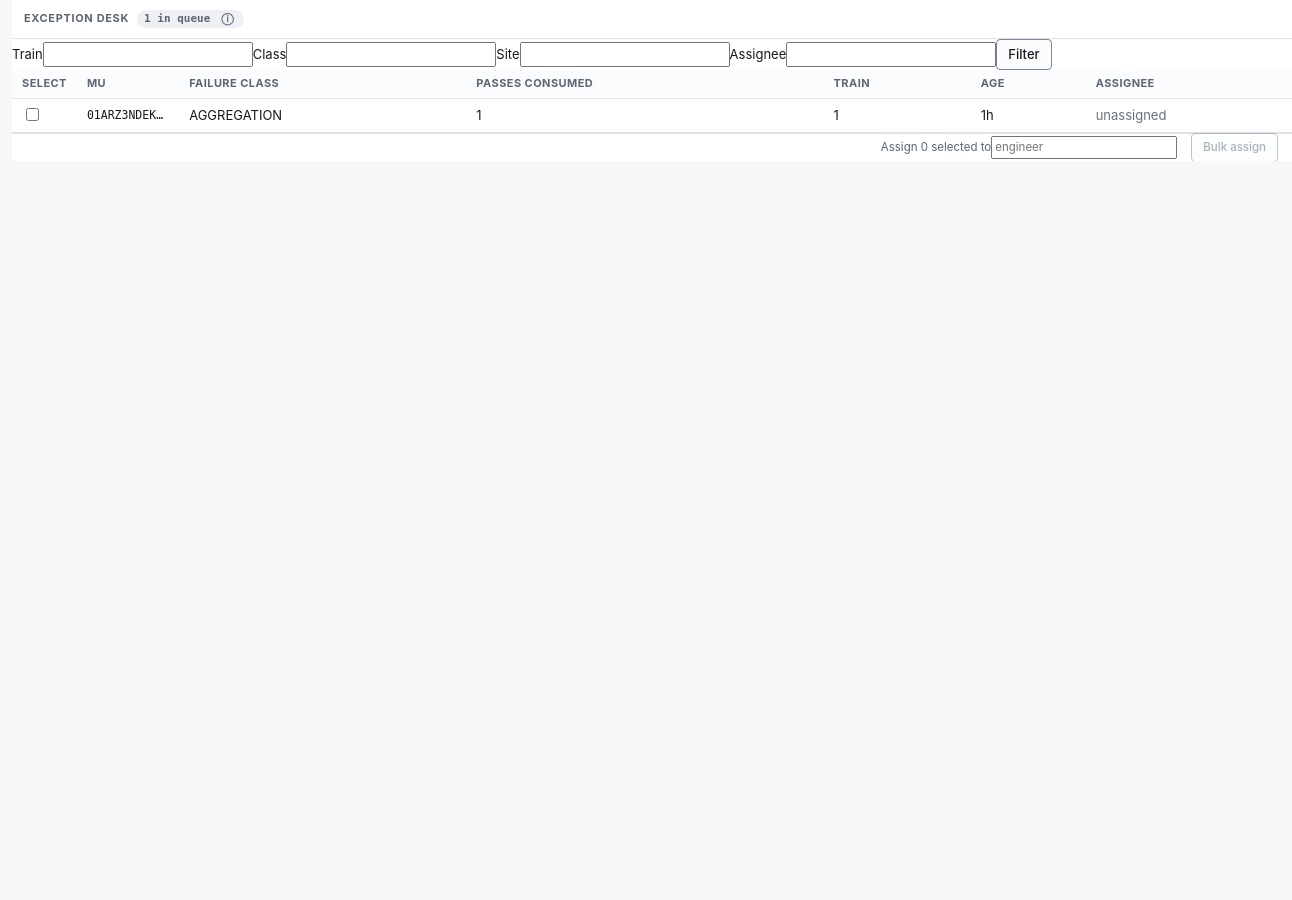
Test case: the case page › disables Record decision until the rationale is at least 20 characters
This screenshot has width=1292, height=900.
Click the text "01ARZ3NDEKTSV4RRFFQ69G5FAV" at (128, 116), box [77,99,179,133]
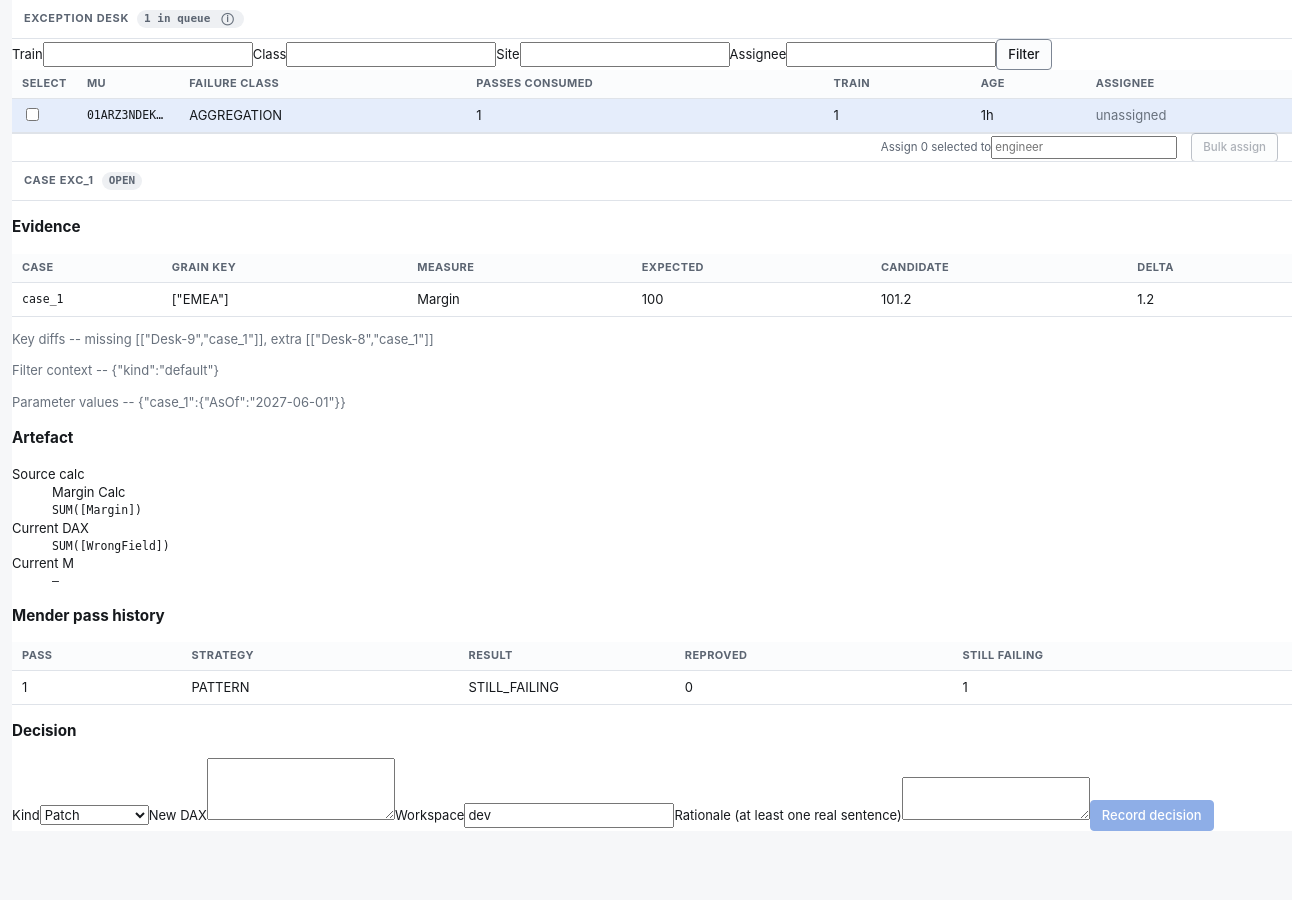
Now the button "Record decision" is disabled, box [1090,800,1214,831]
Type "fixed it" into the text box labelled "Rationale (at least one real sentence)" at (996, 798), box [902,776,1090,820]
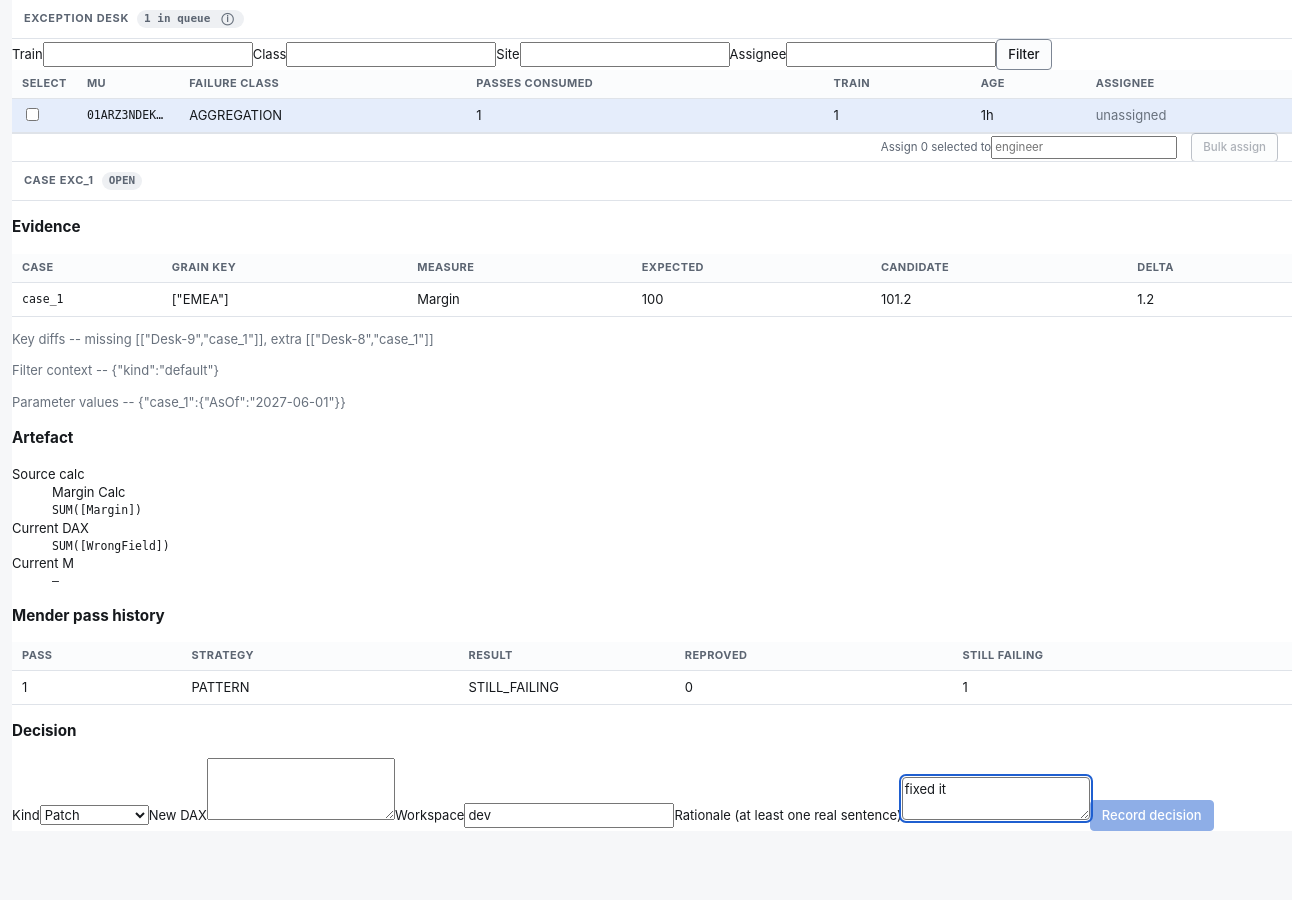
Now the button "Record decision" is disabled, box [1090,800,1214,831]
Replace the text in the text box labelled "Rationale (at least one real sentence)" with "This measure double-counts returns after a schema change." at (996, 798), box [902,776,1090,820]
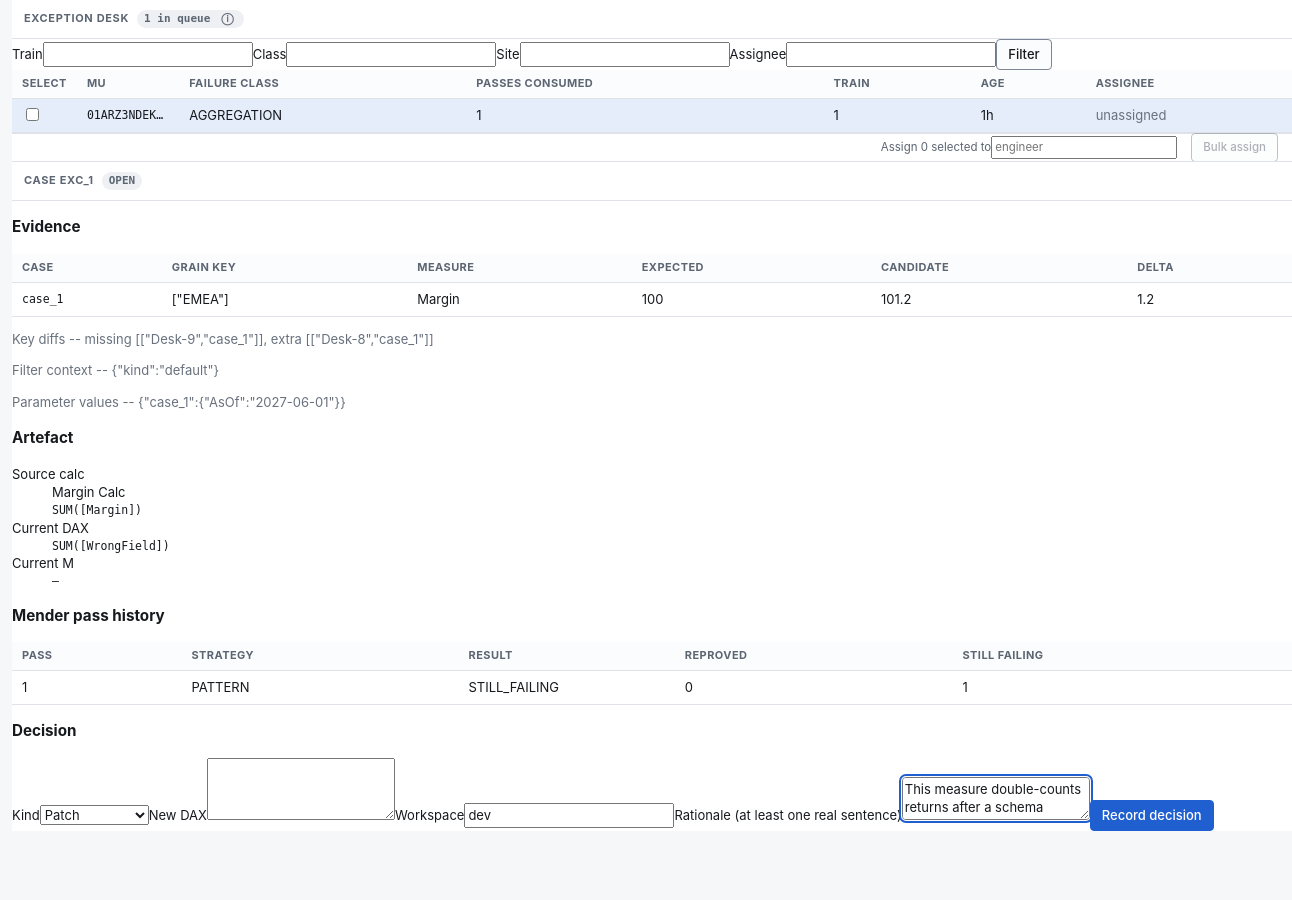
Now the button "Record decision" is enabled, box [1090,800,1214,831]
